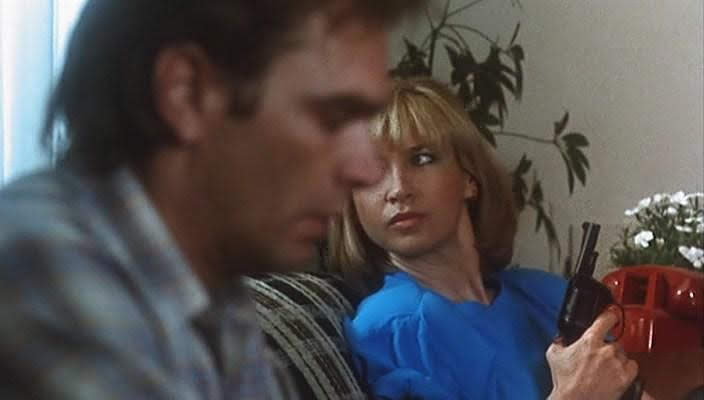gun: (559, 198, 640, 376)
